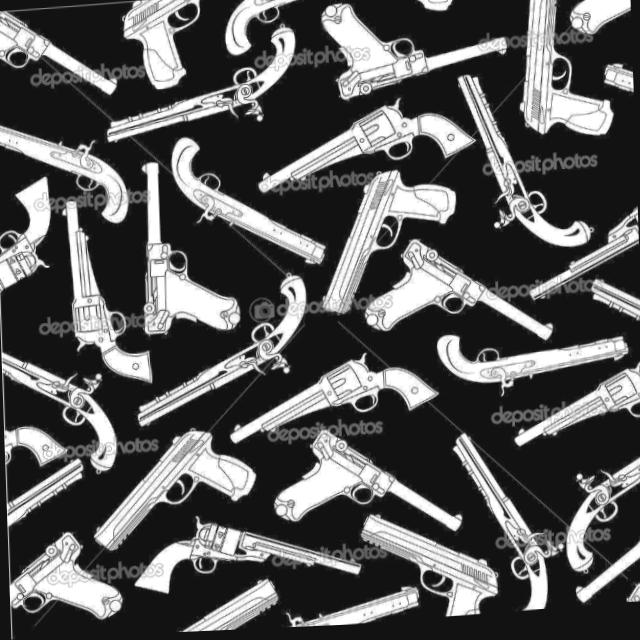pistol: (253, 422, 470, 566), (338, 236, 558, 360), (96, 21, 304, 149), (47, 186, 171, 390), (310, 164, 462, 324), (77, 424, 259, 555), (130, 153, 253, 341), (309, 0, 515, 105), (228, 351, 450, 448), (507, 0, 633, 168), (248, 95, 464, 193), (0, 322, 133, 478), (354, 506, 502, 621), (1, 170, 71, 297)
